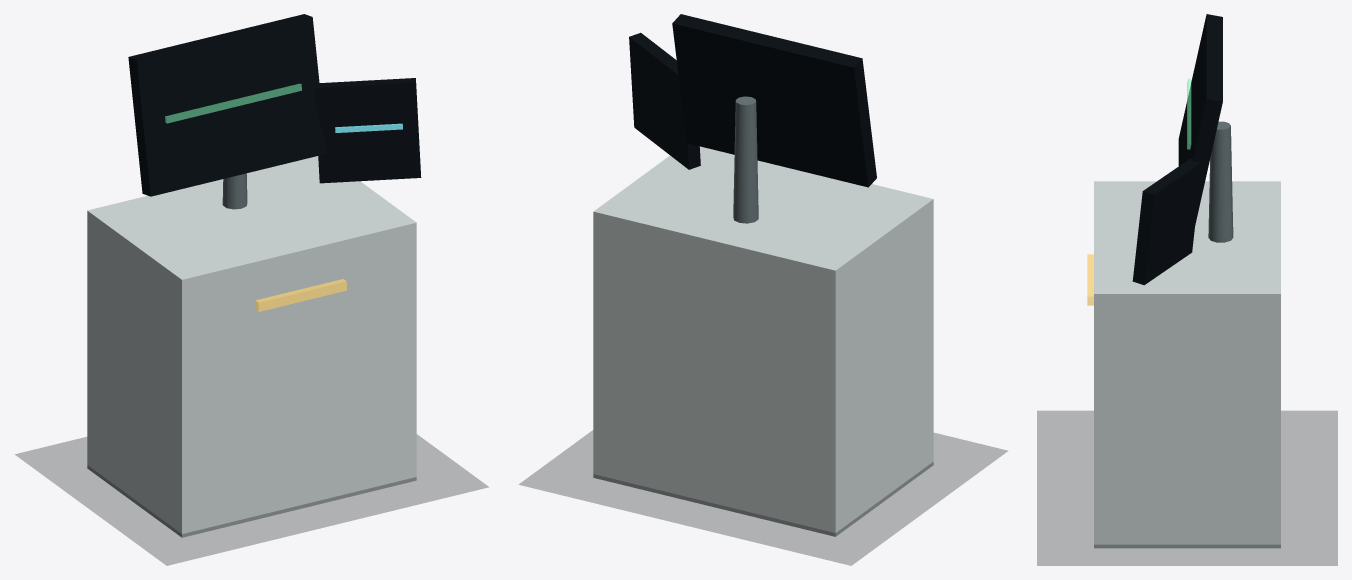
File: hp_room_rm_clinic_diagnosis_terminal.glb
3 views of the same model, side by side, from view 1: azimuth 30°, elevation 25°; view 2: azimuth 150°, elevation 25°; view 3: azimuth 270°, elevation 25° (orthographic). The views are drawn at different scales.
Visible parts, largest first — view 1: cart_body, screen_main, contact_shadow, screen_side, intake_amber, vitals_wave, screen_mast; view 2: cart_body, screen_main, contact_shadow, screen_side, screen_mast; view 3: cart_body, contact_shadow, screen_side, screen_main, screen_mast.
Boxes of the visible parts, bbox=[...] form: cart_body: bbox=[87, 156, 416, 537]; screen_main: bbox=[128, 14, 326, 196]; contact_shadow: bbox=[15, 434, 488, 565]; screen_side: bbox=[314, 78, 421, 183]; intake_amber: bbox=[255, 279, 346, 311]; vitals_wave: bbox=[165, 83, 301, 123]; screen_mast: bbox=[222, 173, 247, 209]; cart_body: bbox=[593, 146, 933, 536]; screen_main: bbox=[672, 14, 876, 187]; contact_shadow: bbox=[519, 430, 1007, 565]; screen_side: bbox=[629, 32, 700, 169]; screen_mast: bbox=[733, 96, 758, 223]; cart_body: bbox=[1094, 181, 1280, 548]; contact_shadow: bbox=[1037, 411, 1337, 565]; screen_side: bbox=[1132, 158, 1201, 285]; screen_main: bbox=[1178, 14, 1222, 225]; screen_mast: bbox=[1208, 121, 1233, 242].
Size of the model in its own units: 1.1 by 1.41 by 0.9.
